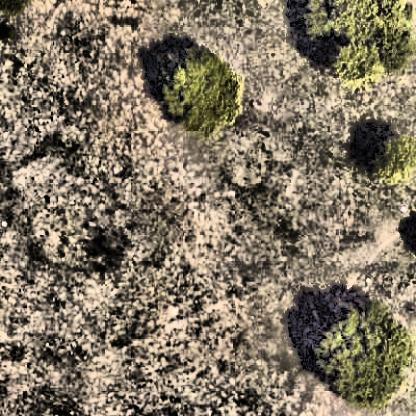tree-top: (309, 300, 416, 408), (158, 47, 246, 134), (299, 1, 416, 60), (369, 130, 416, 187), (334, 42, 389, 90), (1, 1, 28, 18)
